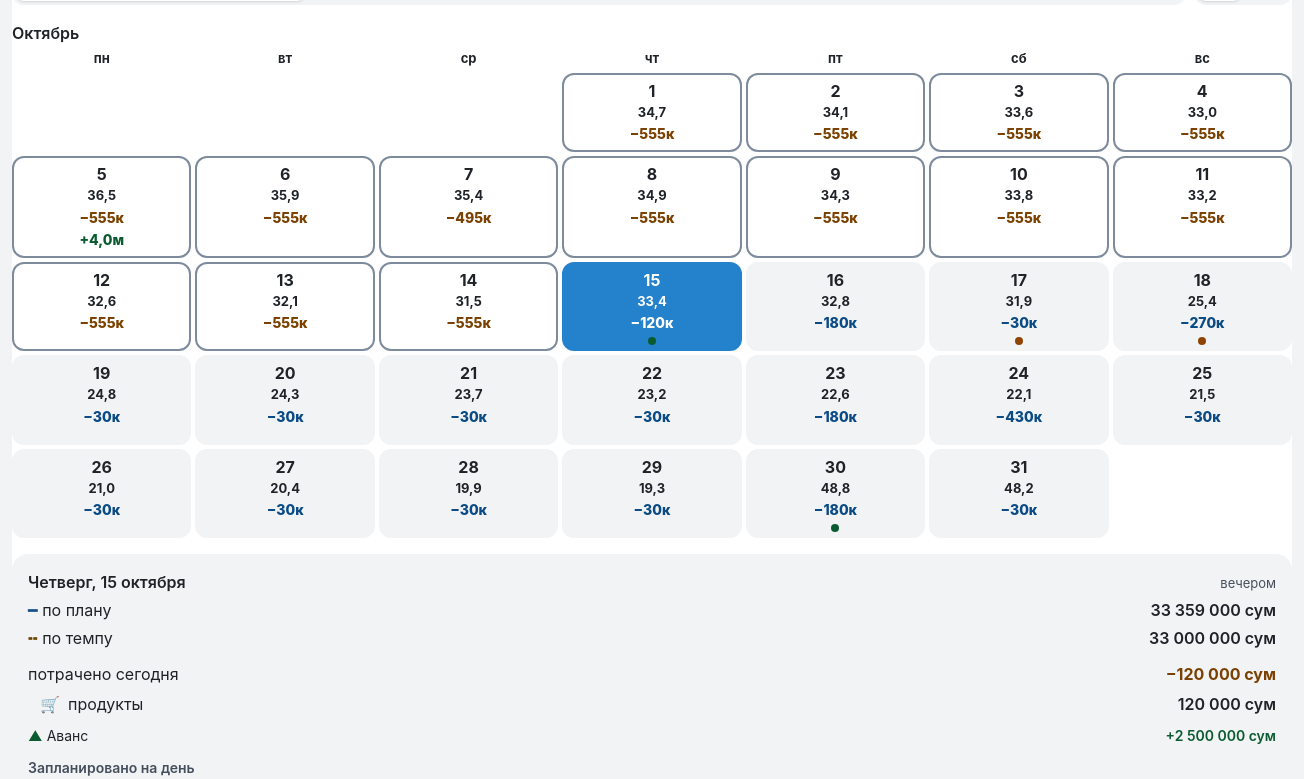
it: ForecastScreen › lists the records of the chosen day
The image size is (1304, 779).
expect the heading "Октябрь" is shown: met, box [12, 23, 79, 43]
Click the button "16 32,8 −180к".
click(835, 306)  # box [746, 262, 925, 351]
(page scrolled)
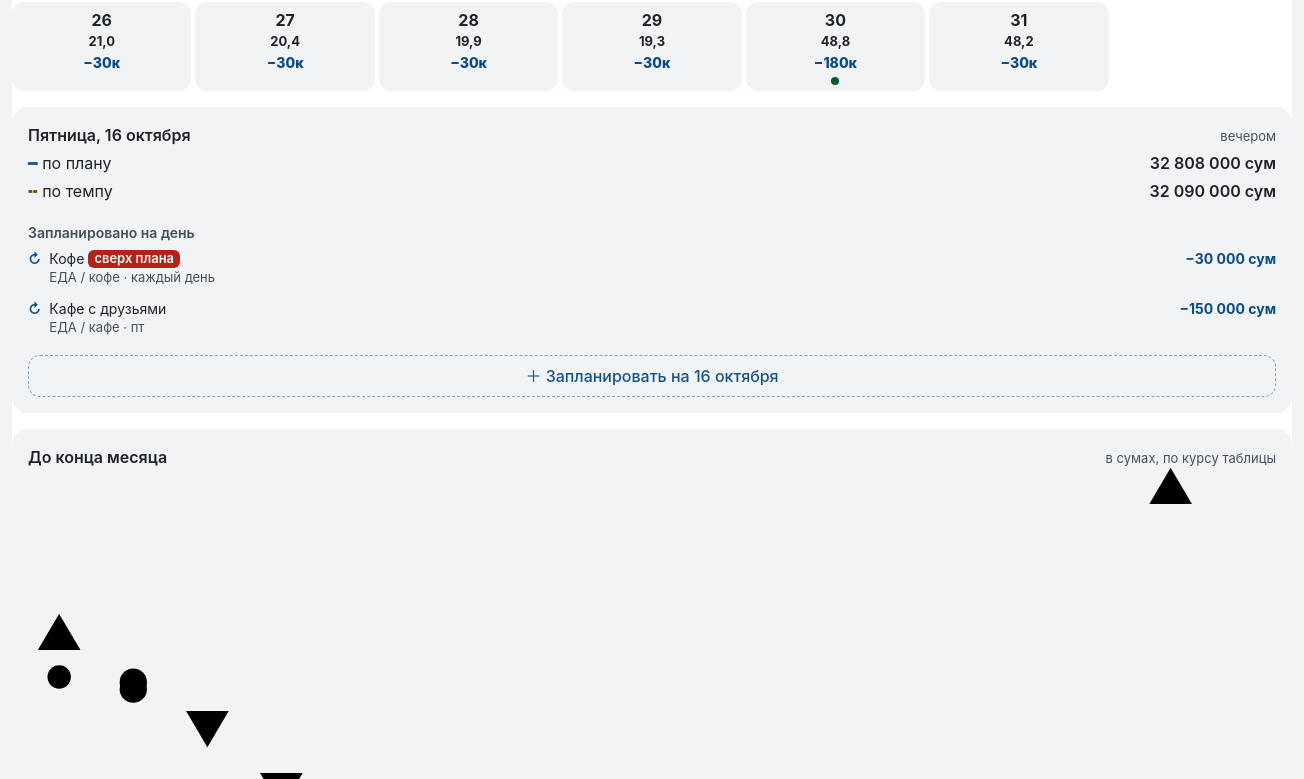
expect the text "ЕДА / кафе · пт" is shown: met, box [49, 319, 144, 335]
expect the text "−150 000 сум" is shown: met, box [1180, 299, 1276, 319]
expect the button "＋ Запланировать на 16 октября" is shown: met, box [28, 355, 1276, 397]
